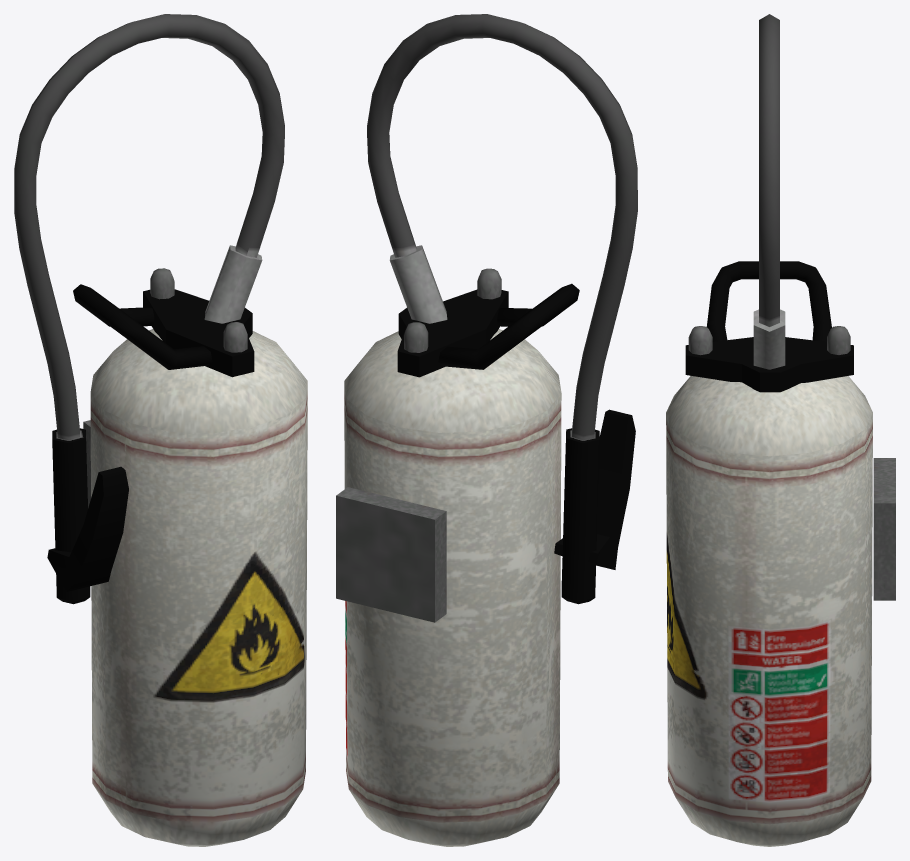
The model's file is Extinguisher.obj.
3 views of the same model, side by side, from view 1: azimuth 30°, elevation 25°; view 2: azimuth 150°, elevation 25°; view 3: azimuth 270°, elevation 25° (orthographic). The views are drawn at different scales.
Visible parts, largest first — view 1: Df_Extinguisher; view 2: Df_Extinguisher; view 3: Df_Extinguisher.
Boxes of the visible parts, bbox=[...] form: Df_Extinguisher: bbox=[14, 14, 307, 846]; Df_Extinguisher: bbox=[336, 14, 637, 846]; Df_Extinguisher: bbox=[666, 14, 895, 846].
Bounding box in the file's own units: 28.22 × 79.88 × 21.25.
1 material, 1 textured.
